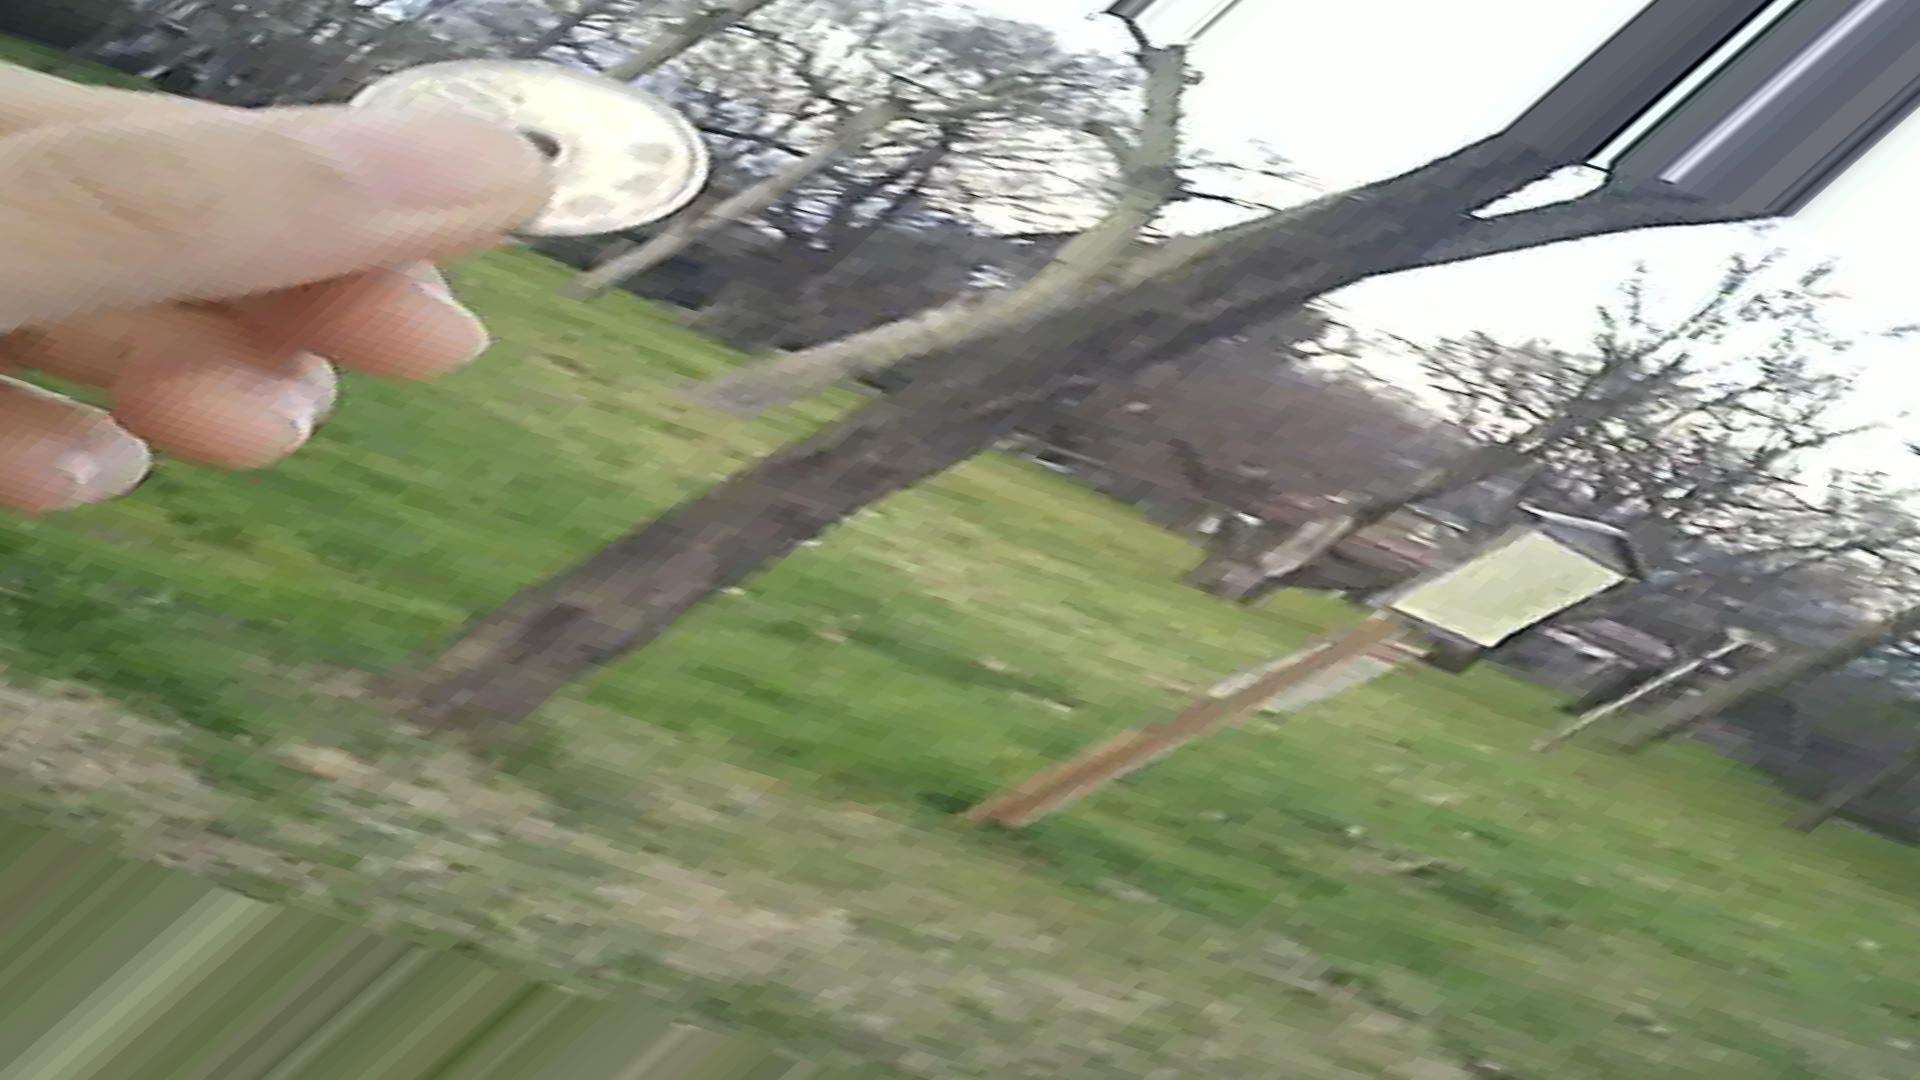50 Yen: (342, 44, 702, 265)
